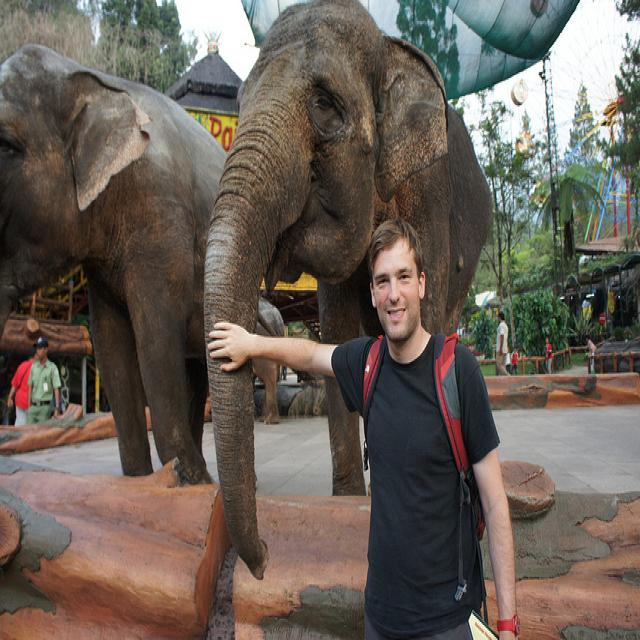Elephant: (202, 0, 493, 580)
person: (26, 335, 61, 424), (6, 346, 37, 425), (495, 311, 511, 376), (586, 335, 596, 373), (544, 337, 553, 372), (511, 346, 518, 374)
